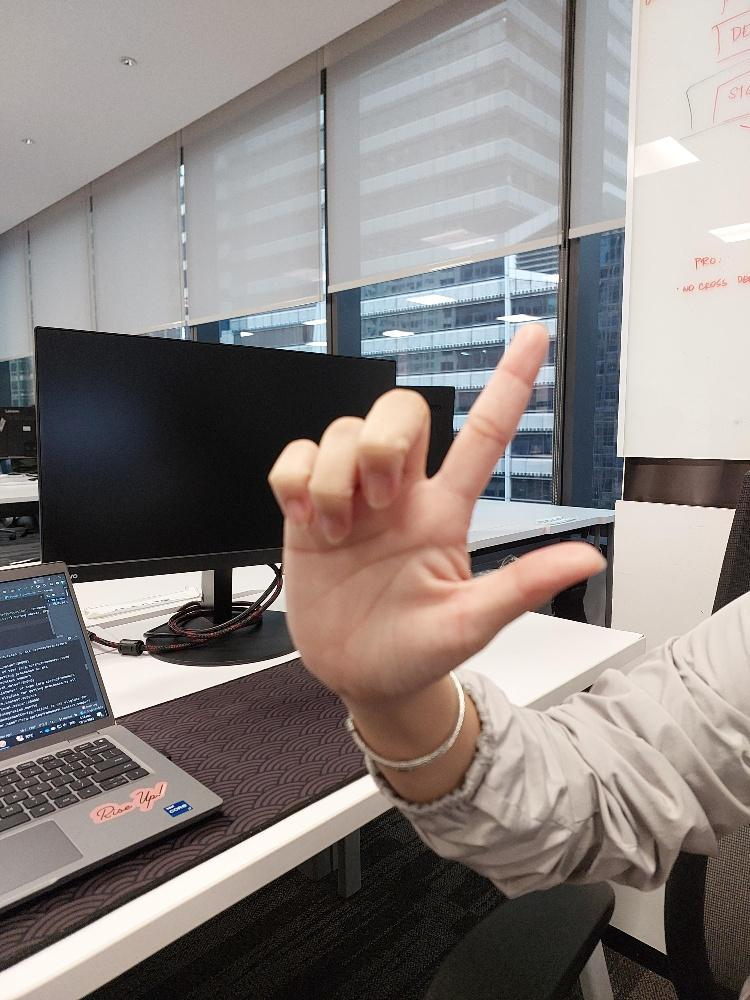l: (265, 317, 605, 694)
